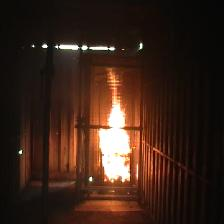fire: (99, 69, 131, 183)
